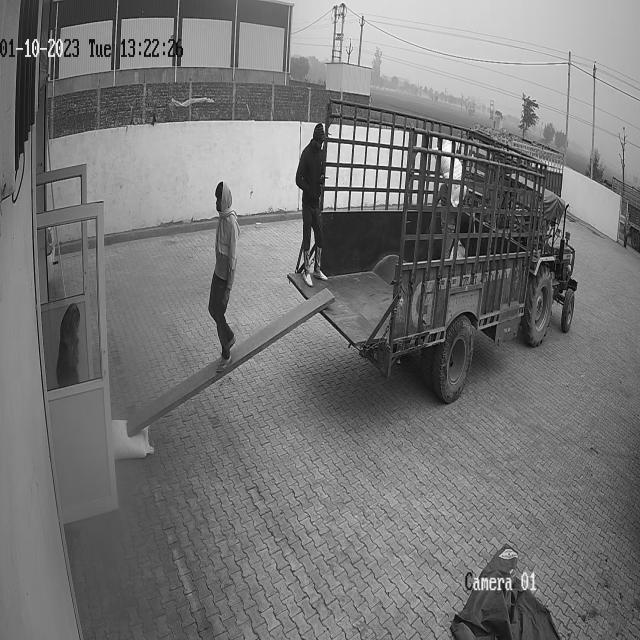sack: (110, 418, 155, 458)
